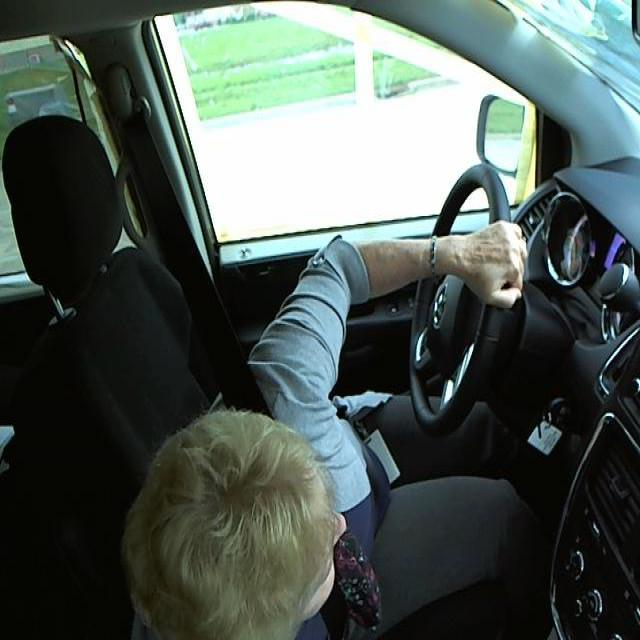seatbelt: (124, 137, 260, 392)
